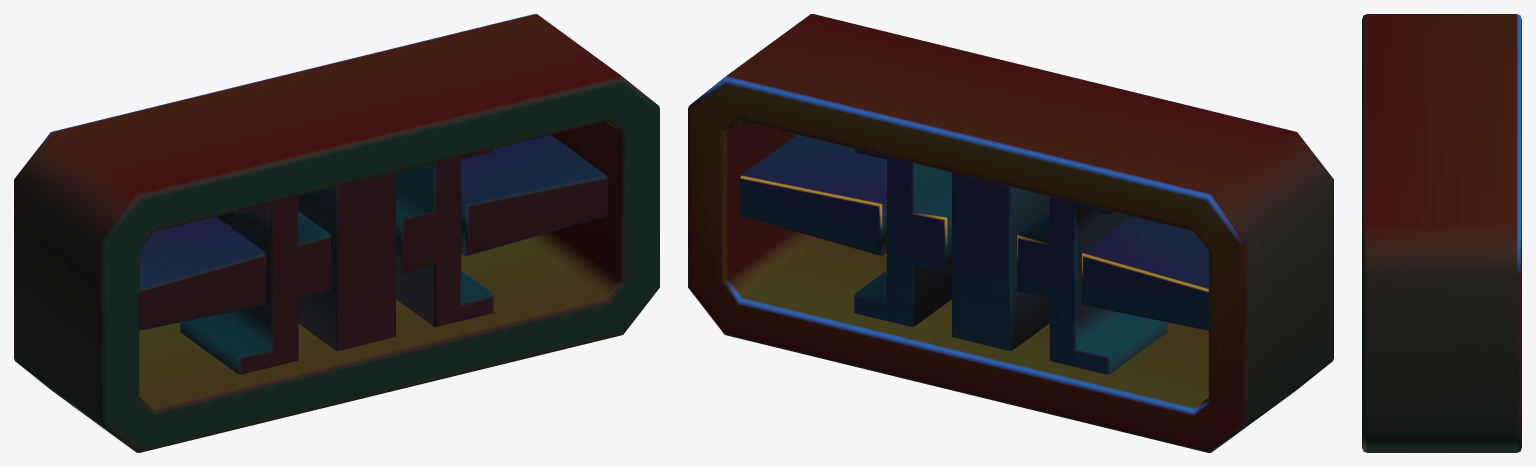
The model's file is Platform_Box_02.fbx.
3 views of the same model, side by side, from view 1: azimuth 30°, elevation 25°; view 2: azimuth 150°, elevation 25°; view 3: azimuth 270°, elevation 25° (orthographic). The views are drawn at different scales.
Parts seen in each view (by area): view 1: Platform; view 2: Platform; view 3: Platform.
Boxes of the visible parts, bbox=[...] form: Platform: bbox=[14, 14, 659, 452]; Platform: bbox=[688, 14, 1333, 452]; Platform: bbox=[1362, 14, 1521, 452].
Bounding box in the file's own units: 215 × 95 × 60.
